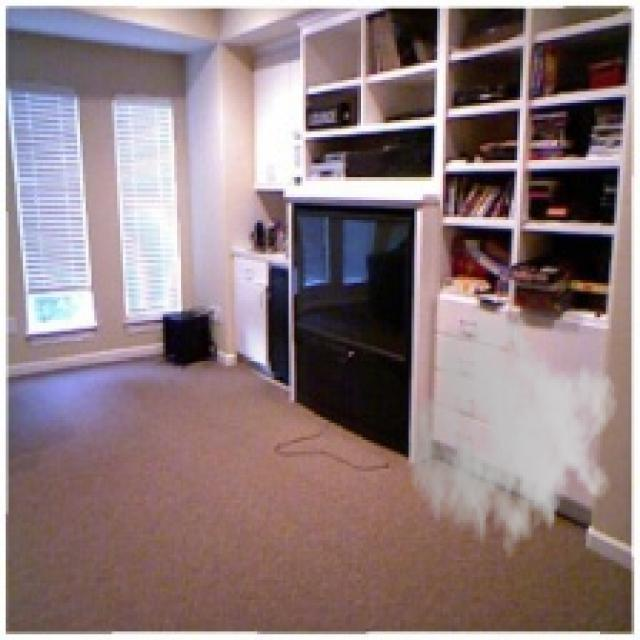Smoke: (406, 302, 620, 574)
